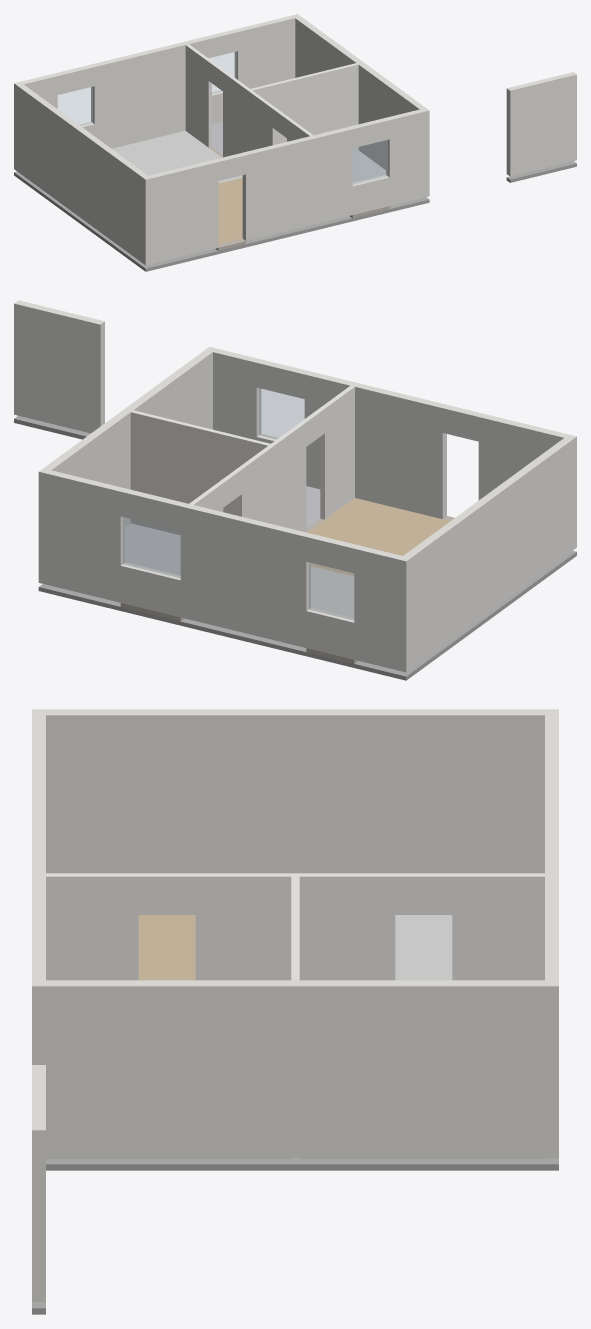
3 renders of one model, top to bottom at view 1: azimuth 30°, elevation 25°; view 2: azimuth 150°, elevation 25°; view 3: azimuth 270°, elevation 25°, orthographic. The views are drawn at different scales.
Visible parts, largest first — view 1: wall_ext_3, wall_ext_1, wall_ext_2, wall_ext_4, wall_int_13, wall_ext_5, floor_default_24, slab_32, wall_int_15, oak_21, glass_20, wall_ext_11 (+12 smaller); view 2: wall_ext_3, wall_ext_1, wall_ext_4, wall_int_13, wall_ext_2, wall_ext_5, oak_21, slab_32, wall_int_14, glass_18, wall_ext_7, carpet_23 (+13 smaller); view 3: wall_ext_1, wall_ext_3, wall_int_13, wall_int_14, wall_int_15, slab_32, oak_21, floor_default_24, wall_ext_5, wall_int_16, wall_int_17, wall_ext_2 (+1 smaller).
Part boxes in pixels (x1,y1,x2,y2): wall_ext_3: (14, 73, 218, 265); wall_ext_1: (234, 14, 429, 205); wall_ext_2: (242, 127, 352, 240); wall_ext_4: (91, 41, 191, 148); wall_int_13: (223, 63, 358, 157); wall_ext_5: (506, 72, 576, 176); floor_default_24: (112, 130, 242, 183); slab_32: (14, 171, 429, 271); wall_int_15: (185, 44, 211, 147); oak_21: (218, 177, 242, 244); glass_20: (353, 140, 387, 184); wall_ext_11: (352, 175, 389, 214); wall_ext_3: (354, 413, 576, 672); wall_ext_1: (38, 347, 261, 602); wall_ext_4: (180, 503, 310, 647); wall_int_13: (130, 410, 306, 534); wall_ext_2: (304, 371, 446, 519); wall_ext_5: (14, 300, 104, 433); oak_21: (307, 498, 450, 576); slab_32: (38, 551, 576, 680); wall_int_14: (320, 385, 354, 519); glass_18: (123, 517, 180, 577); wall_ext_7: (120, 562, 180, 617); carpet_23: (125, 523, 180, 575); wall_ext_1: (32, 924, 558, 1157); wall_ext_3: (32, 709, 558, 873); wall_int_13: (195, 873, 395, 980); wall_int_14: (46, 873, 138, 980); wall_int_15: (452, 873, 544, 980); slab_32: (46, 1158, 558, 1170); oak_21: (138, 915, 195, 980); floor_default_24: (395, 915, 452, 980); wall_ext_5: (32, 1065, 45, 1301); wall_int_16: (138, 873, 195, 914); wall_int_17: (395, 873, 452, 914); wall_ext_2: (32, 807, 45, 910).
Size of the model in its own units: 14.2 by 2.9 by 7.52.
